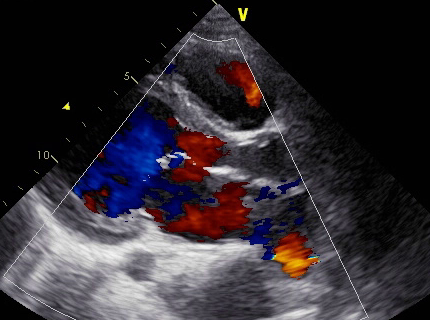AR: (168, 116, 239, 182)
